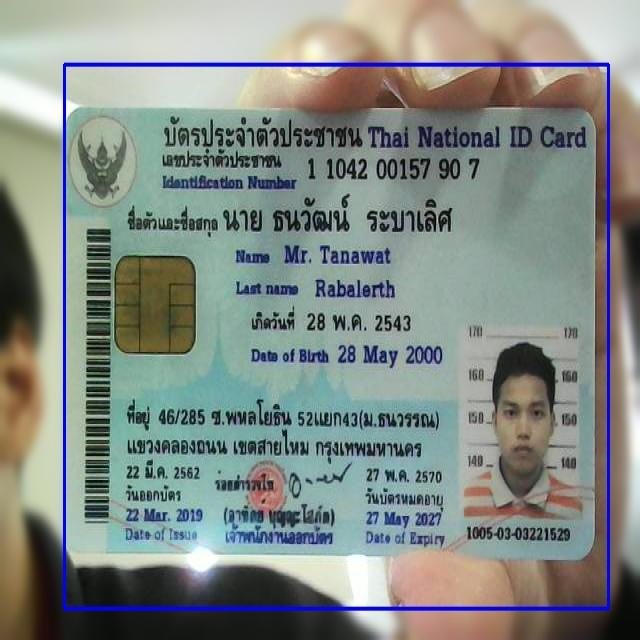Address_th: (115, 392, 451, 463)
Date_of_Birth: (334, 338, 446, 372)
Date_of_Expiry: (364, 509, 444, 531)
Date_of_Issue: (124, 506, 208, 529)
First_Name: (280, 238, 397, 271)
ID_Number: (304, 150, 484, 186)
Image: (462, 324, 582, 522)
Last_Name: (312, 275, 399, 302)
Thai_Name: (219, 190, 466, 244)
